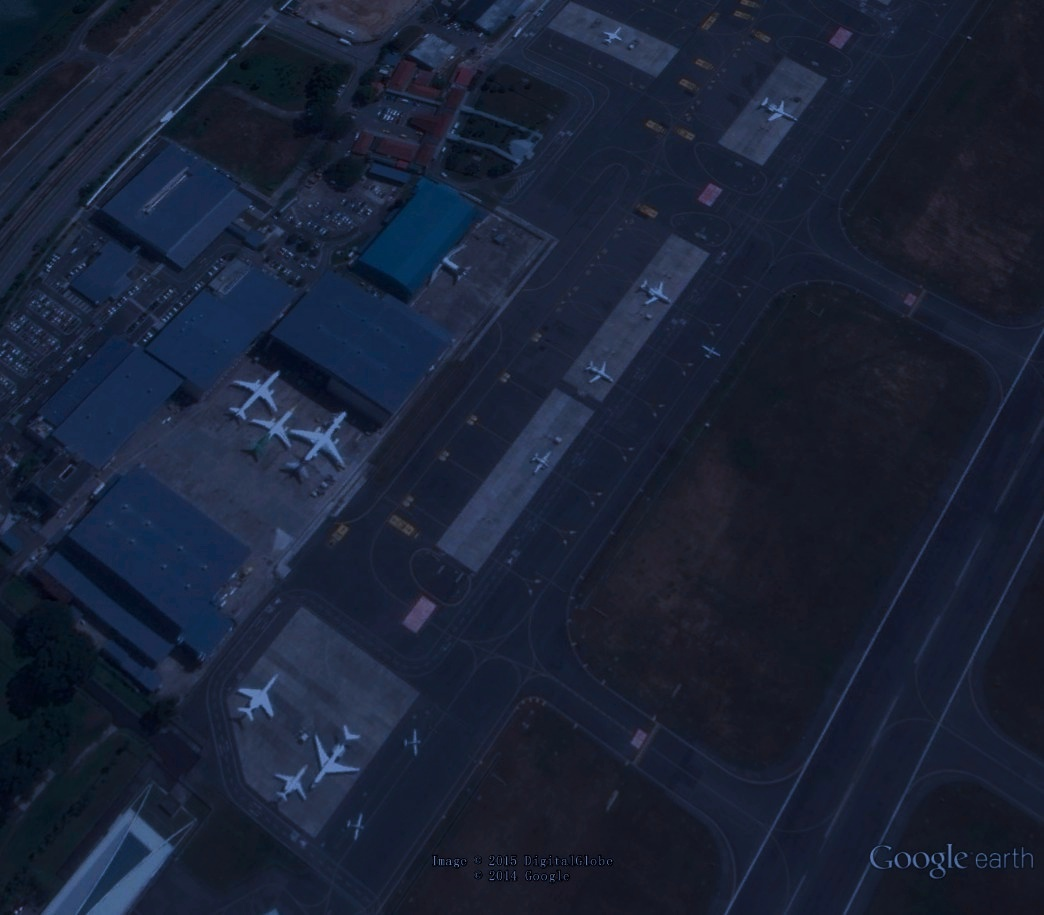aircraft: (279, 405, 354, 486), (306, 721, 369, 799), (225, 365, 289, 428), (239, 404, 301, 466), (232, 670, 284, 727), (426, 242, 475, 289), (270, 758, 310, 807), (758, 93, 799, 126), (636, 276, 674, 310), (400, 727, 425, 763), (583, 359, 614, 388), (343, 813, 369, 846), (530, 449, 553, 477), (600, 26, 626, 48), (700, 343, 725, 363)
